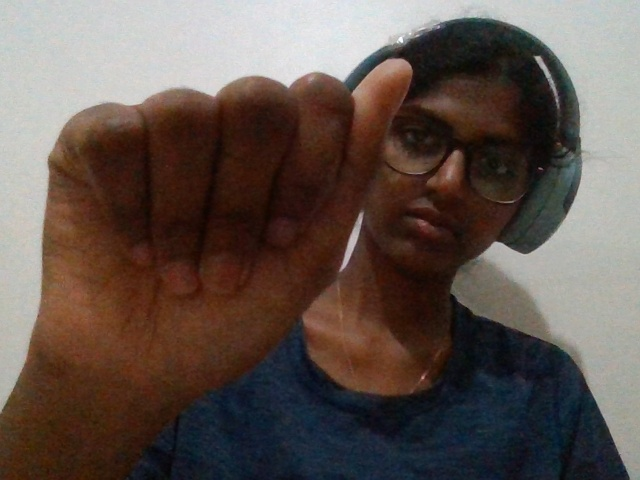A: (1, 19, 422, 469)
